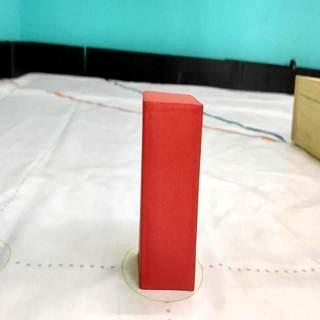redbox: (139, 90, 203, 294)
